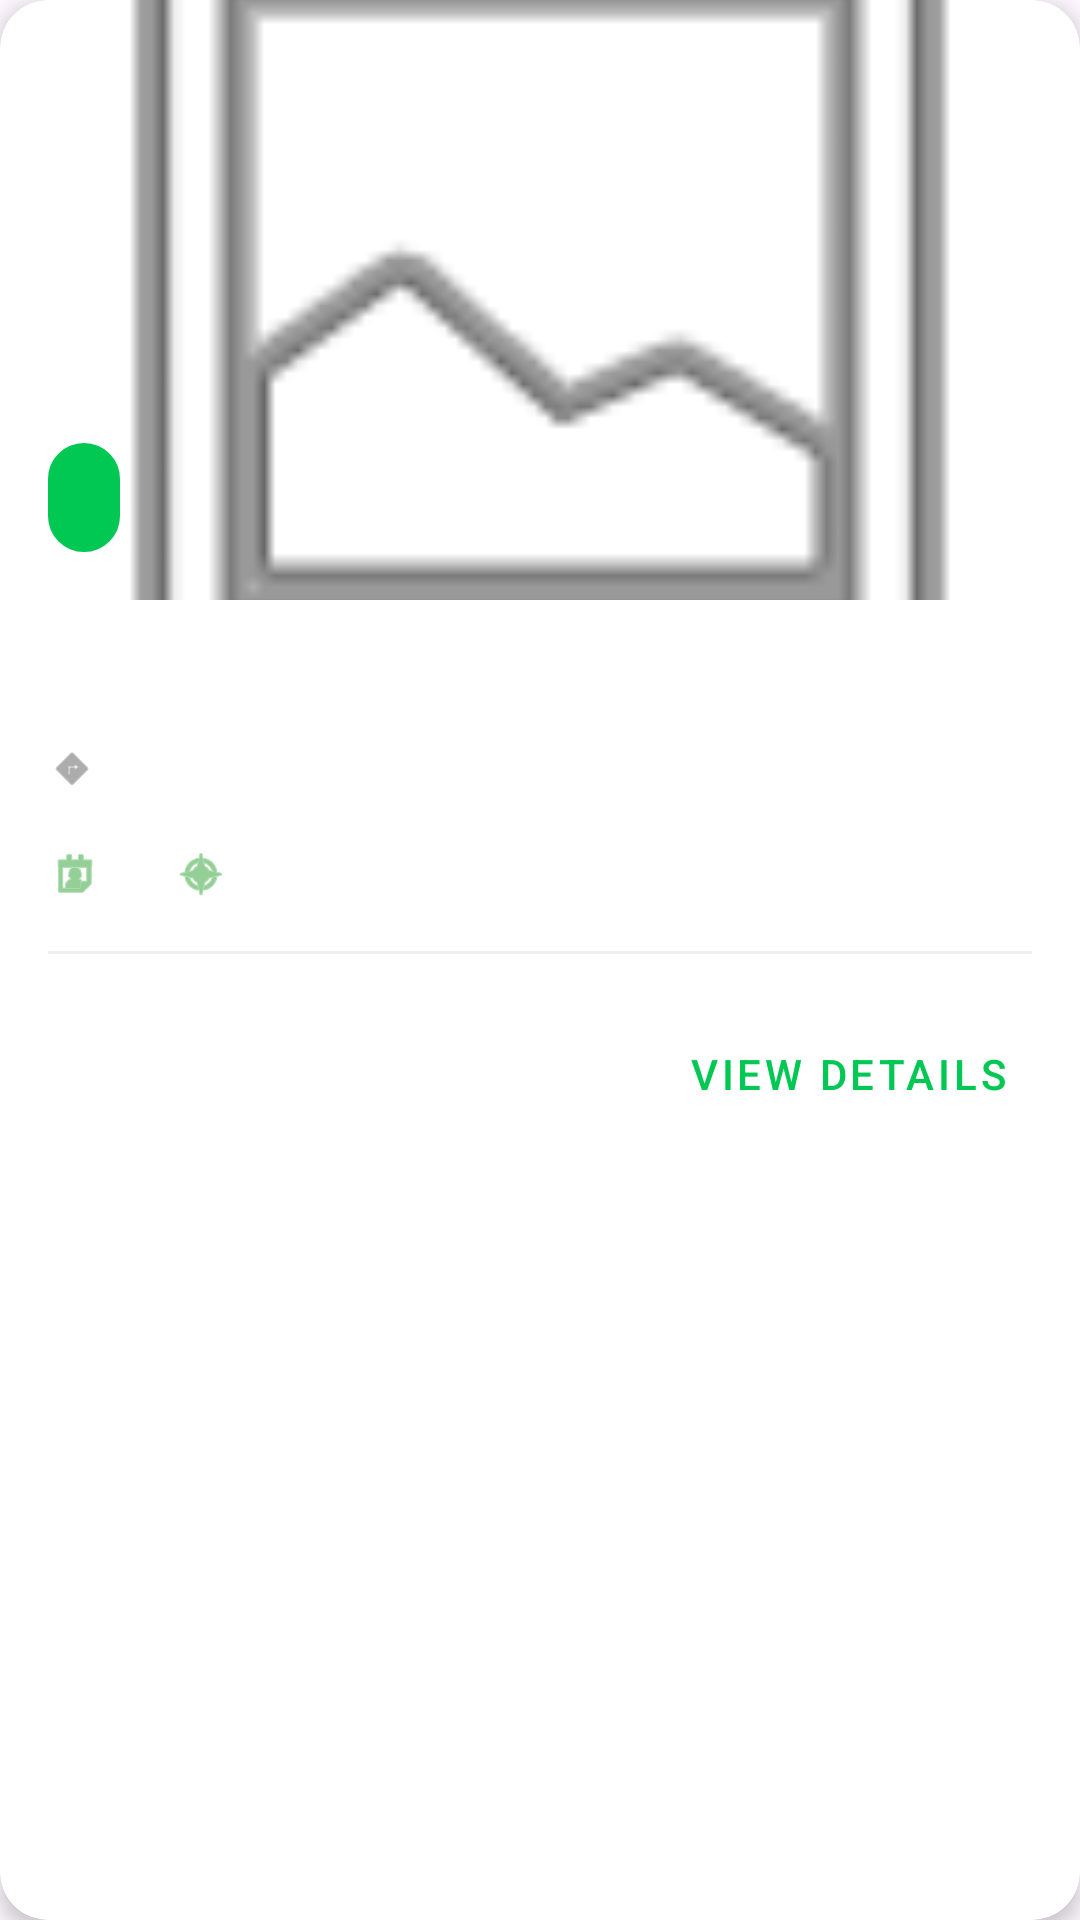

Locate icon controls on the screen. Image size 1080x1920, boxes as [x1, y1, x2, y2].
calendar: [57, 854, 93, 893]
compass: [180, 853, 222, 895]
directions: [56, 752, 88, 785]
